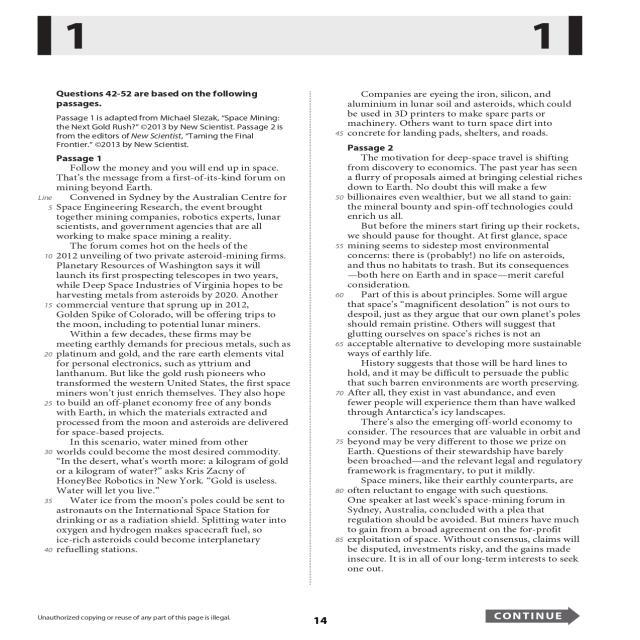Instruction: (327, 86, 594, 584), (49, 86, 299, 588)
Question_Paper_Area: (328, 85, 596, 584), (48, 87, 299, 588)
